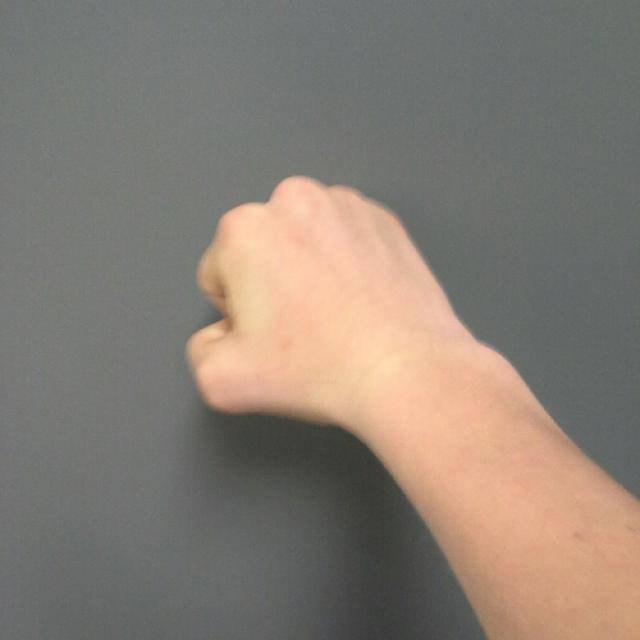rock: (188, 174, 421, 425)
